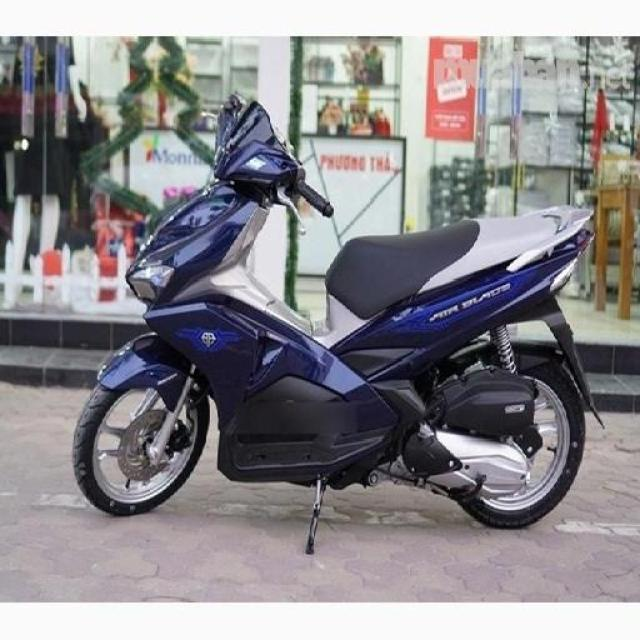All: (70, 94, 610, 529)
Head: (198, 96, 331, 221)
Tail: (522, 204, 596, 282)
